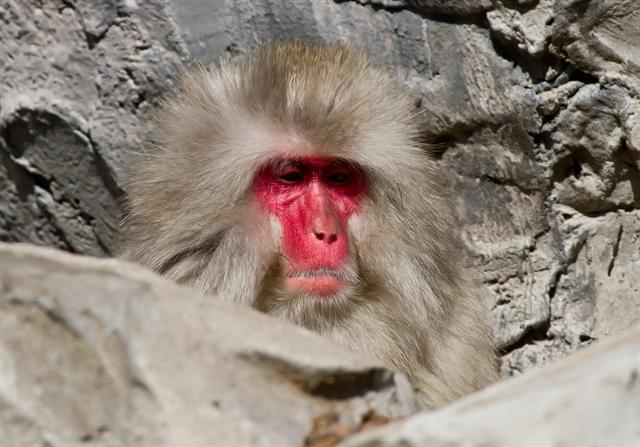monkey: (139, 73, 490, 404)
